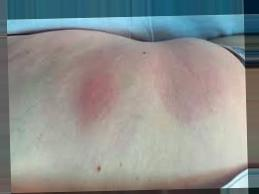Tick: (79, 71, 117, 120)
